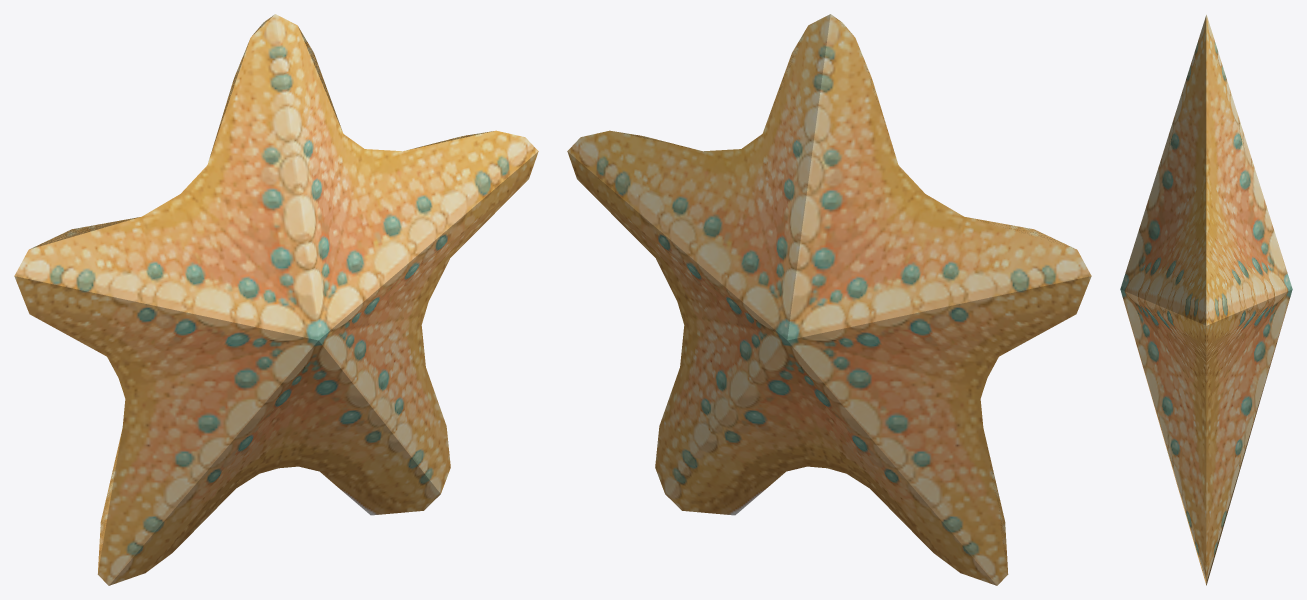
Rendered from star_yellow.glb.
The picture shows the model from 3 angles, left to right: view 1: azimuth 30°, elevation 25°; view 2: azimuth 150°, elevation 25°; view 3: azimuth 270°, elevation 25°; orthographic projection. The views are drawn at different scales.
Parts seen in each view (by area): view 1: yellow_star.001; view 2: yellow_star.001; view 3: yellow_star.001.
Part boxes in pixels (<box>): yellow_star.001: <box>14,14,538,585</box>; yellow_star.001: <box>567,14,1091,585</box>; yellow_star.001: <box>1120,14,1292,585</box>.
Size of the model in its own units: 0.1746 by 0.1696 by 0.0526.
Materials: 1 (1 with a texture image).
